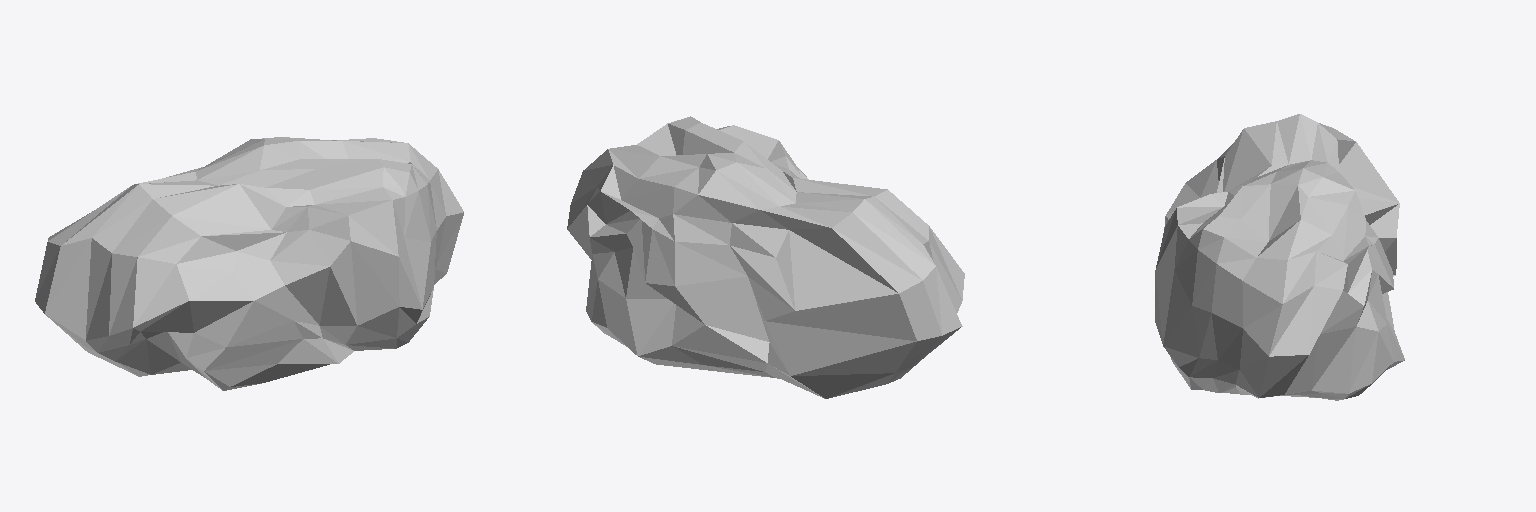
The model's file is NUGGET.obj.
3 renders of one model, left to right at view 1: azimuth 30°, elevation 25°; view 2: azimuth 150°, elevation 25°; view 3: azimuth 270°, elevation 25°, orthographic.
Parts seen in each view (by area): view 1: nugget; view 2: nugget; view 3: nugget.
Part boxes in pixels (bbox=[...]): nugget: bbox=[35, 137, 463, 390]; nugget: bbox=[567, 116, 964, 398]; nugget: bbox=[1155, 114, 1404, 400].
Size of the model in its own units: 0.2285 by 0.1047 by 0.1222.